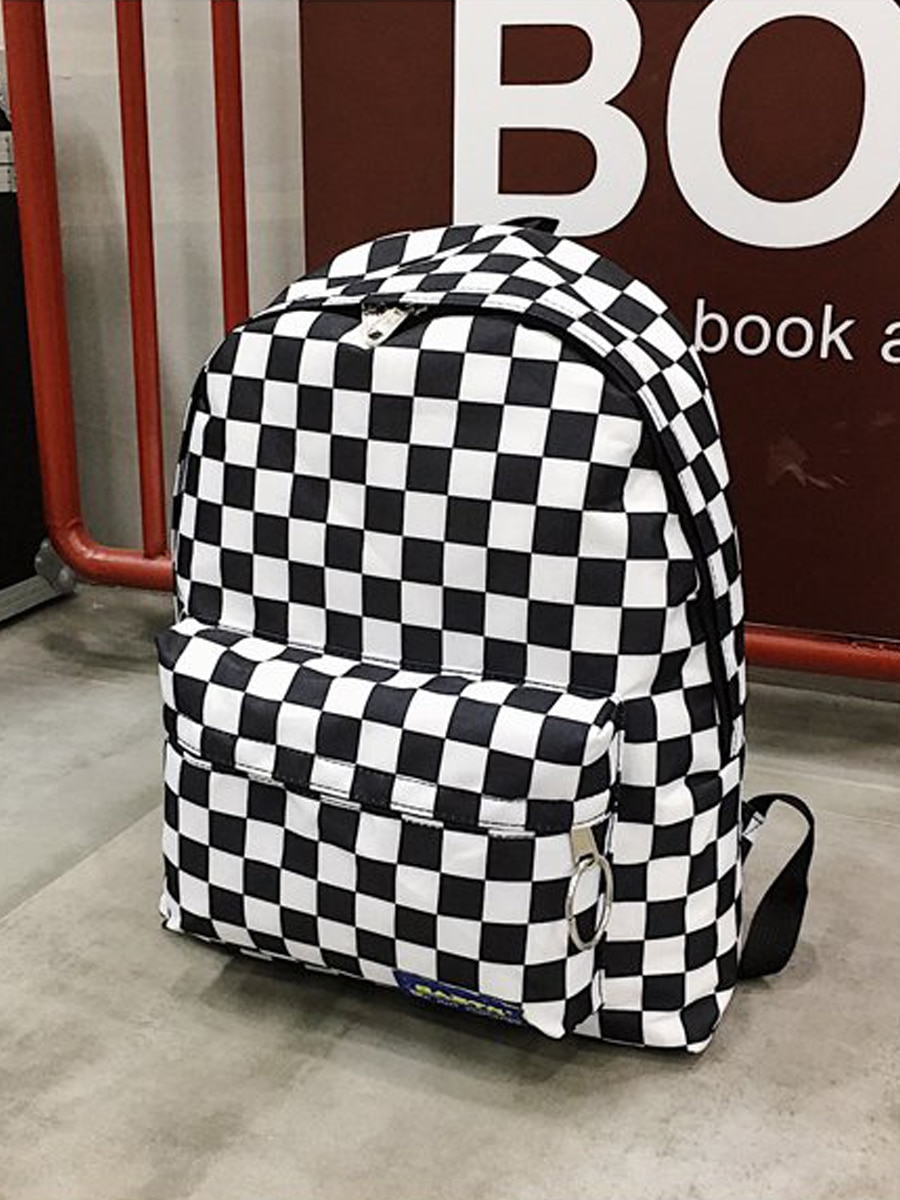Men's Backpacks: (159, 221, 817, 1061)
